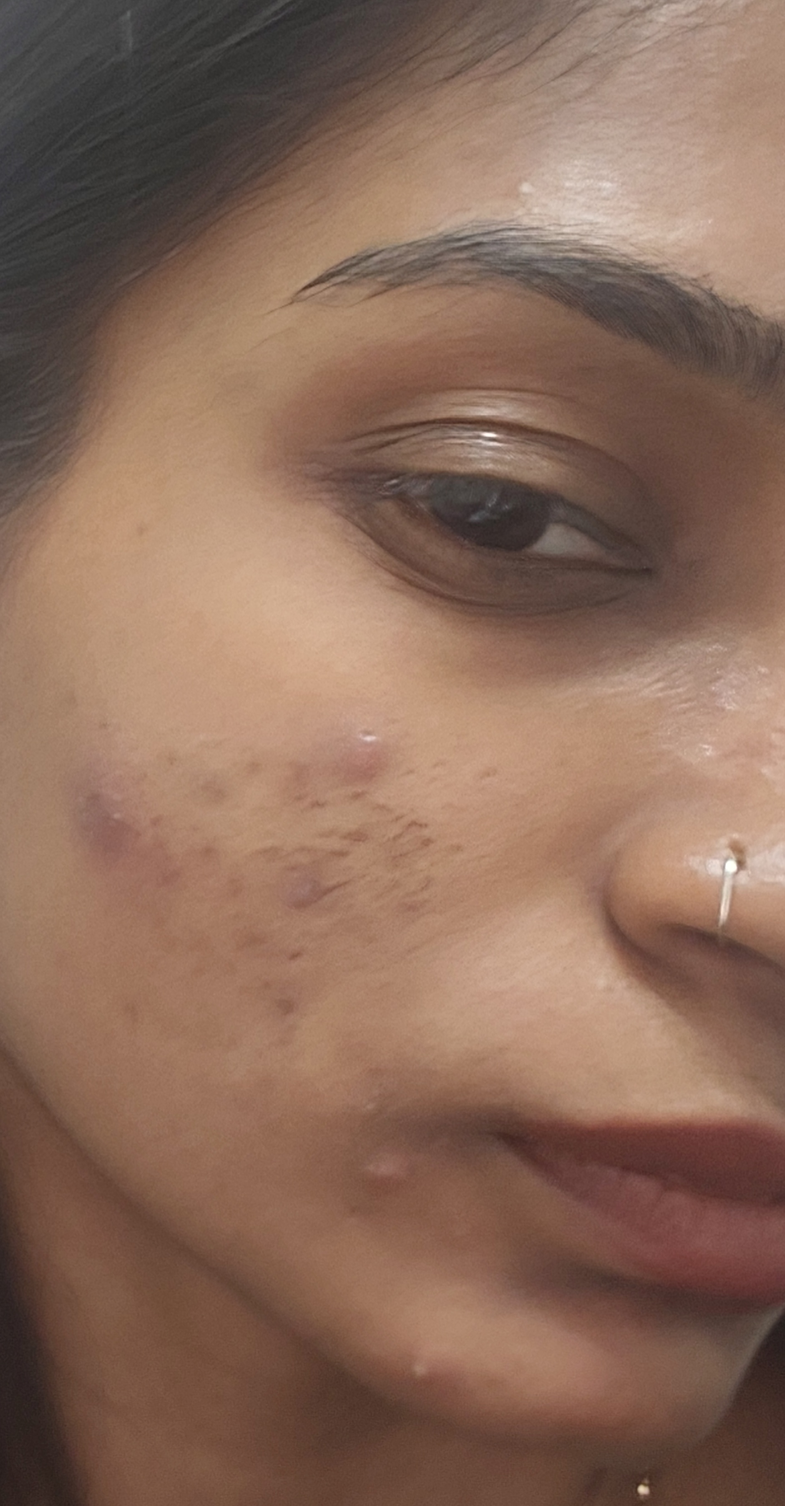papule: (60, 770, 182, 887), (321, 723, 455, 828), (338, 1121, 445, 1225)
pustule: (375, 1315, 460, 1409)
